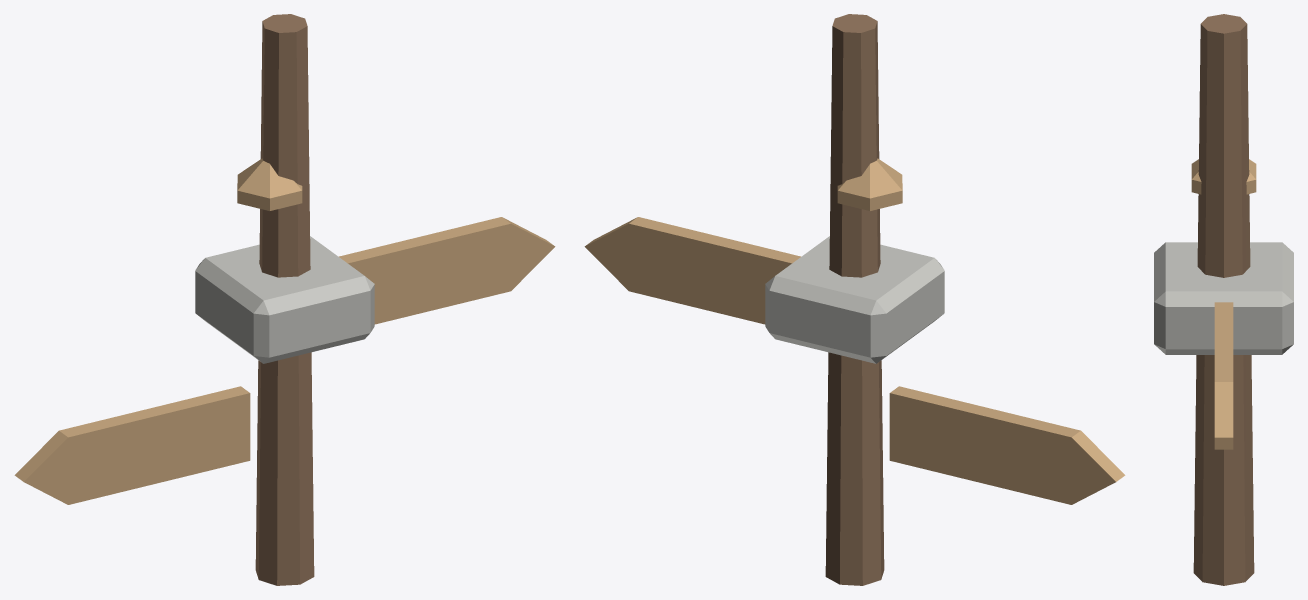
The model's file is town_road_signpost.glb.
3 renders of one model, left to right at view 1: azimuth 30°, elevation 25°; view 2: azimuth 150°, elevation 25°; view 3: azimuth 270°, elevation 25°, orthographic.
Parts seen in each view (by area): view 1: world; view 2: world; view 3: world.
Part boxes in pixels (bbox=[...]): world: bbox=[14, 14, 555, 585]; world: bbox=[584, 14, 1125, 585]; world: bbox=[1154, 14, 1293, 585].
Bounding box in the file's own units: 2 × 1.98 × 0.4563.
